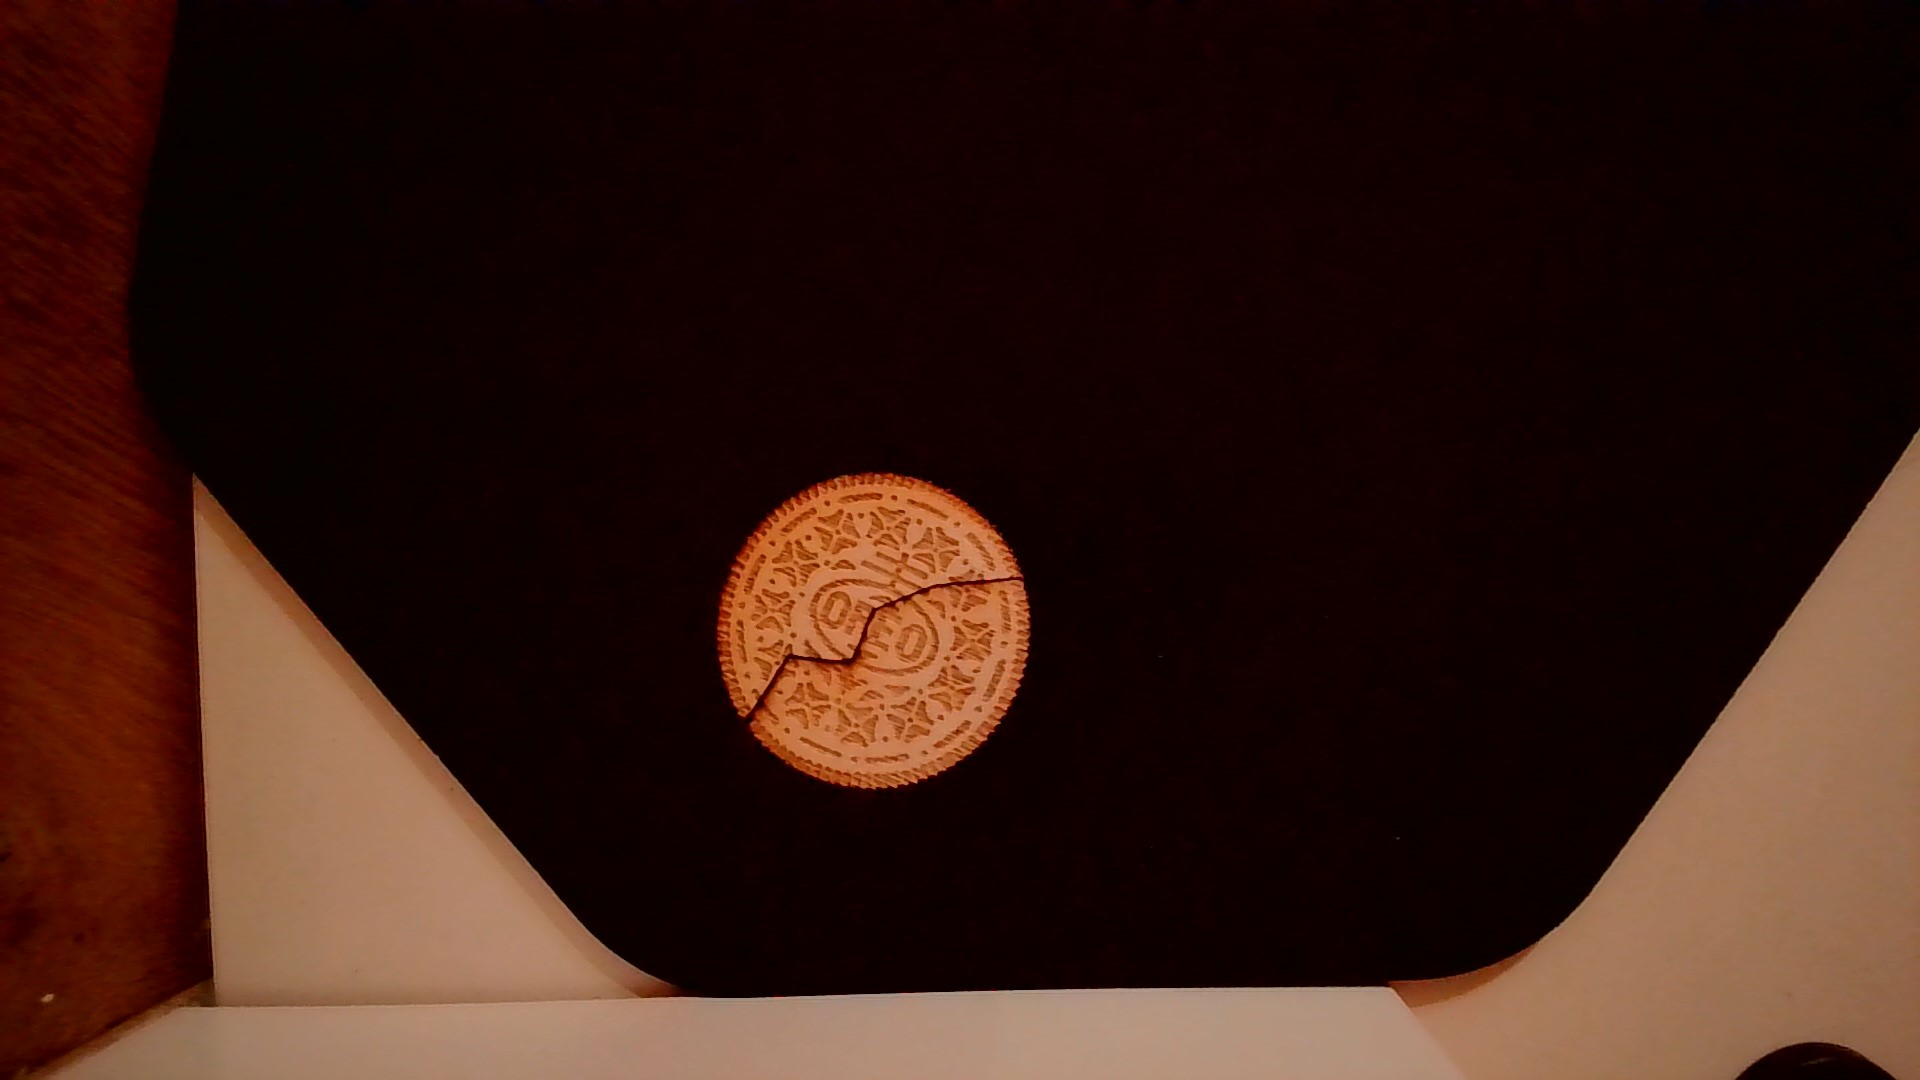Fissure: (735, 568, 1029, 733)
Oréo: (708, 460, 1036, 796)
